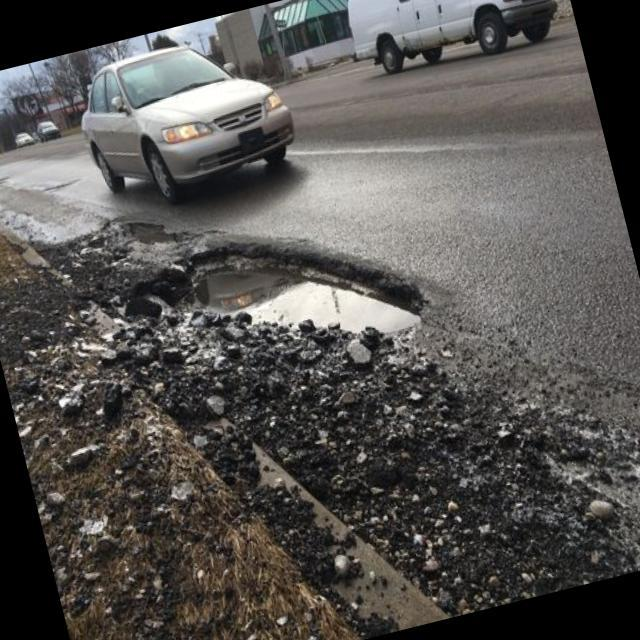Pothole: (166, 200, 404, 362), (51, 210, 168, 274)
